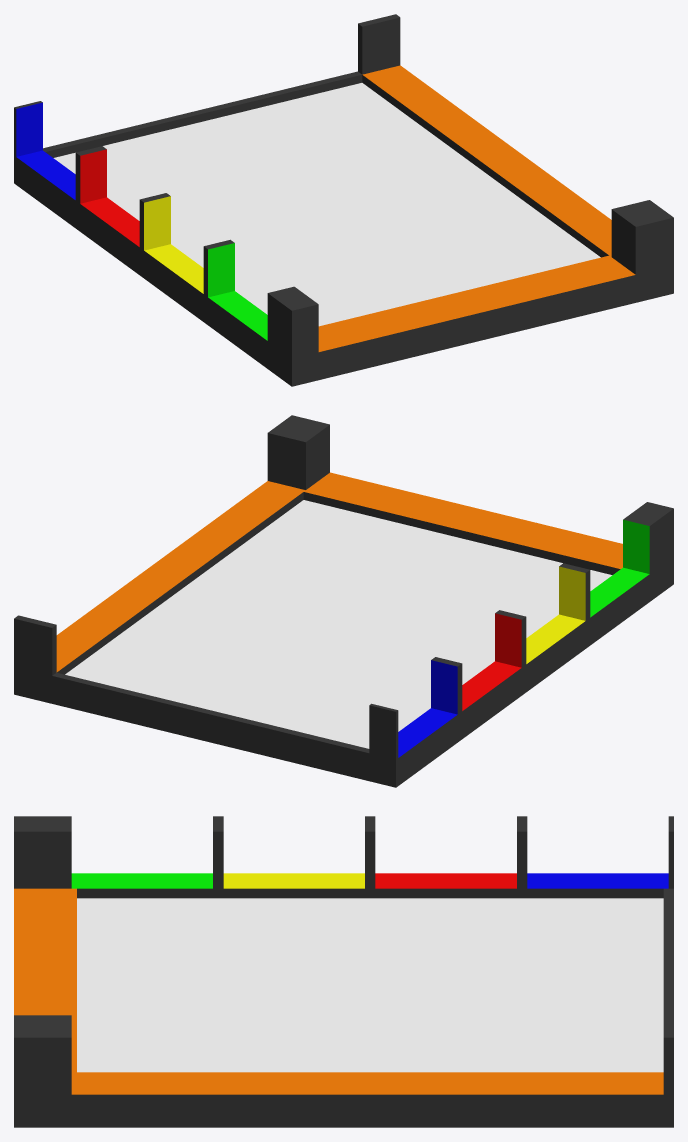
3 views of the same model, one above another, from view 1: azimuth 30°, elevation 25°; view 2: azimuth 150°, elevation 25°; view 3: azimuth 270°, elevation 25° (orthographic). The views are drawn at different scales.
Visible parts, largest first — view 1: SketchUp (×7); view 2: SketchUp (×7); view 3: SketchUp (×7).
Part boxes in pixels (box(x1,y1,x2,y2)): SketchUp (×7): box(14, 14, 673, 386); SketchUp (×7): box(14, 415, 673, 787); SketchUp (×7): box(14, 816, 673, 1127).
Size of the model in its own units: 3937 by 4961 by 748.
